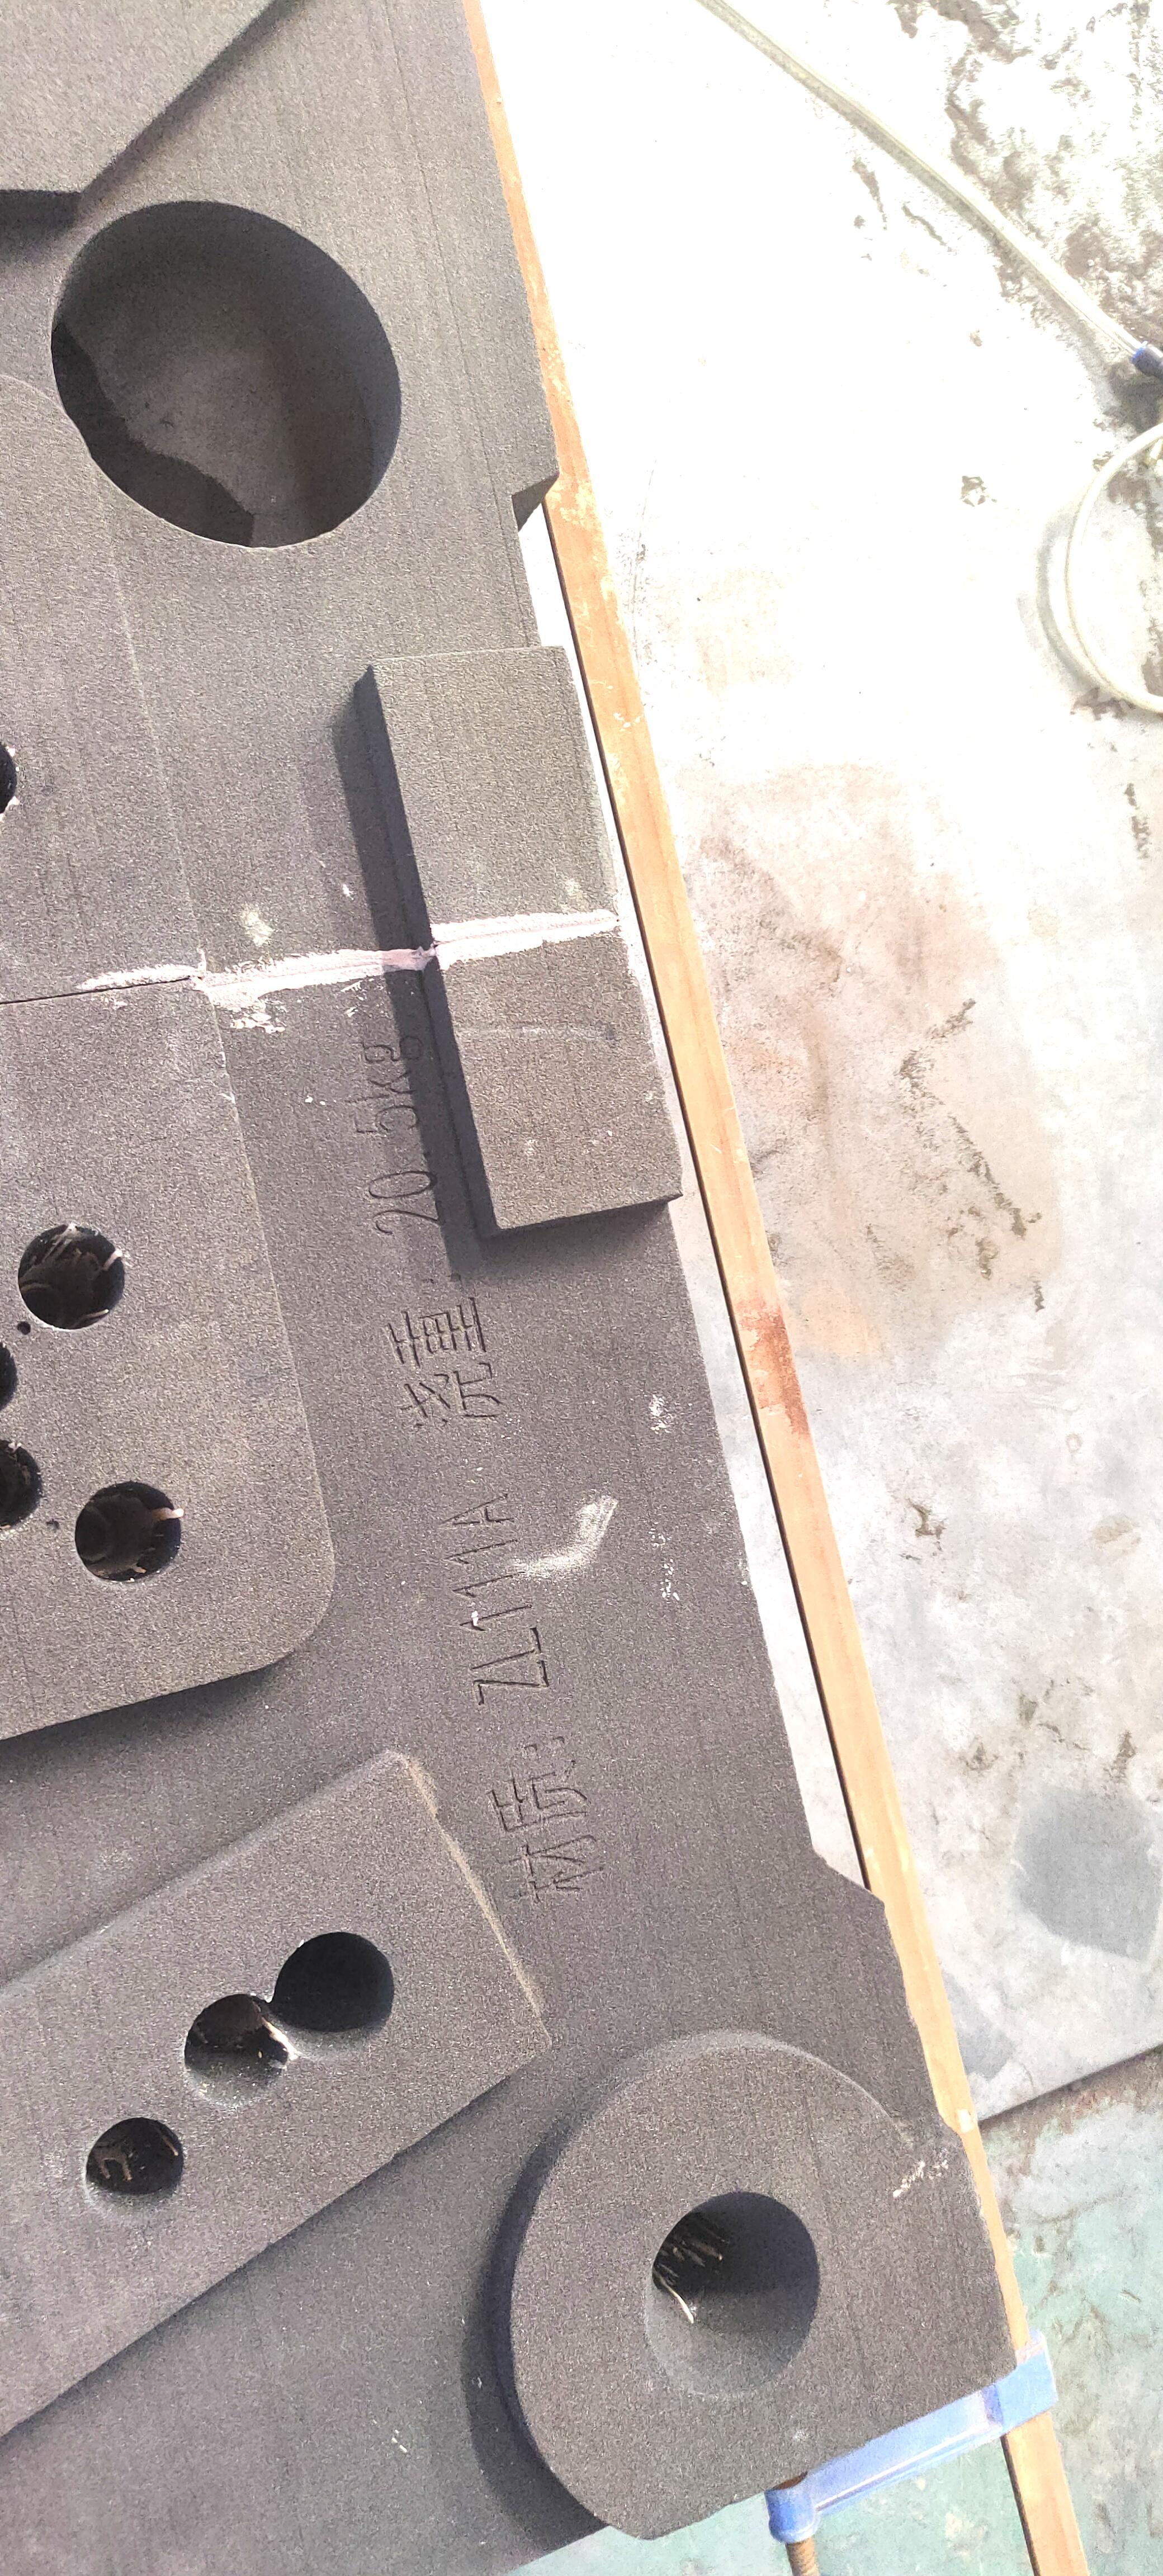pouring hole: (642, 2190, 820, 2394)
